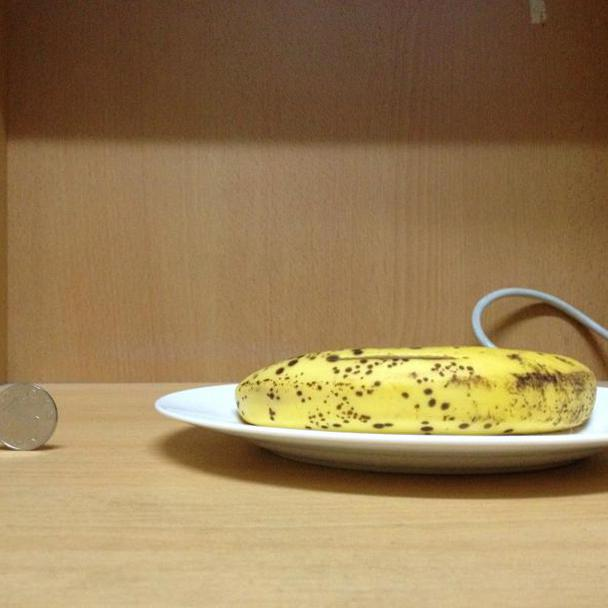banana: (236, 342, 597, 437)
